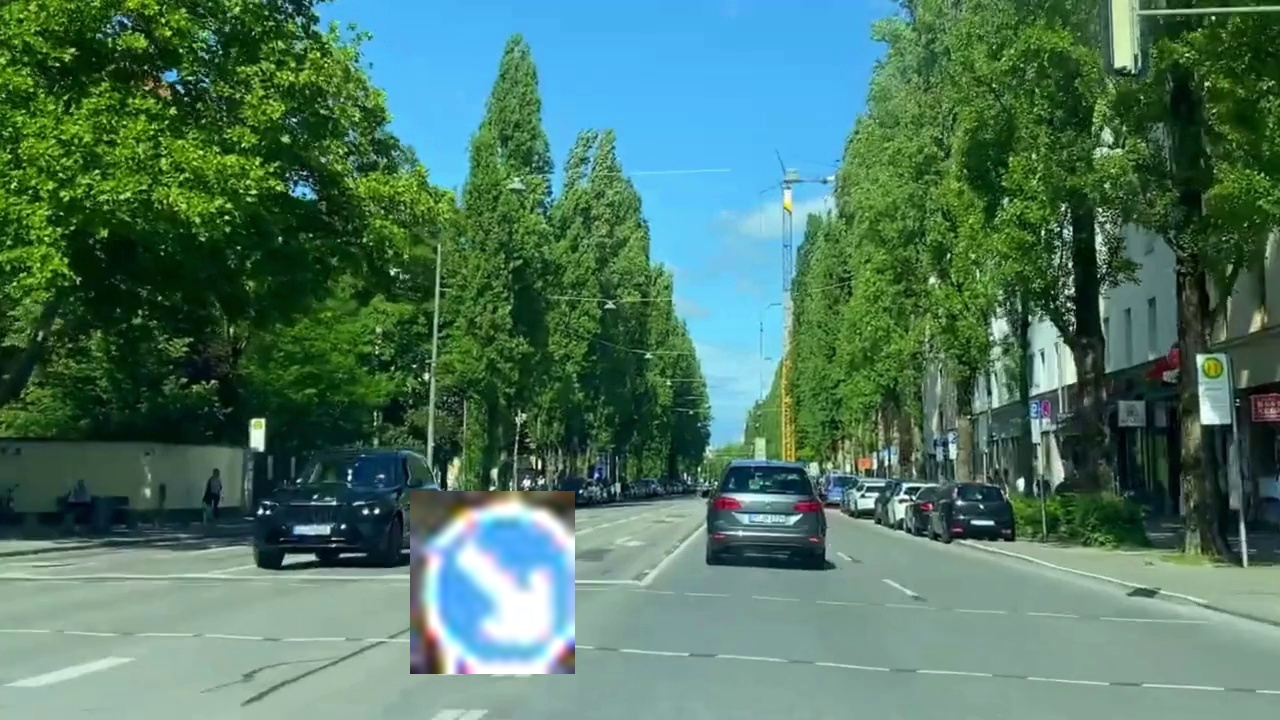Keep right: (410, 491, 575, 674)
